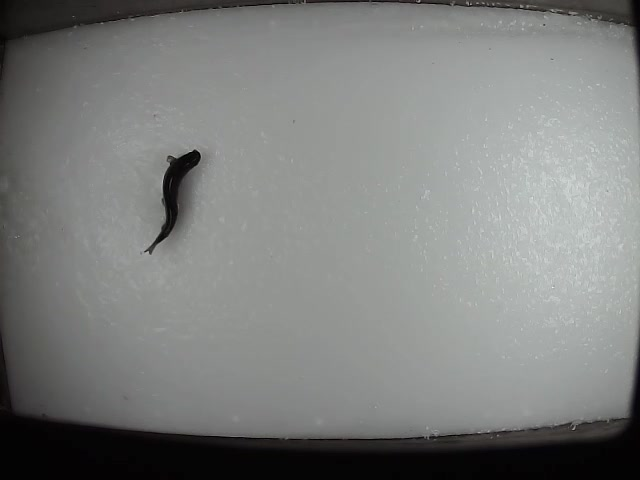Fish: (144, 150, 201, 255)
